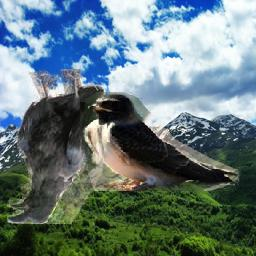Crow: (8, 70, 105, 225)
Swallow: (82, 93, 240, 192)
